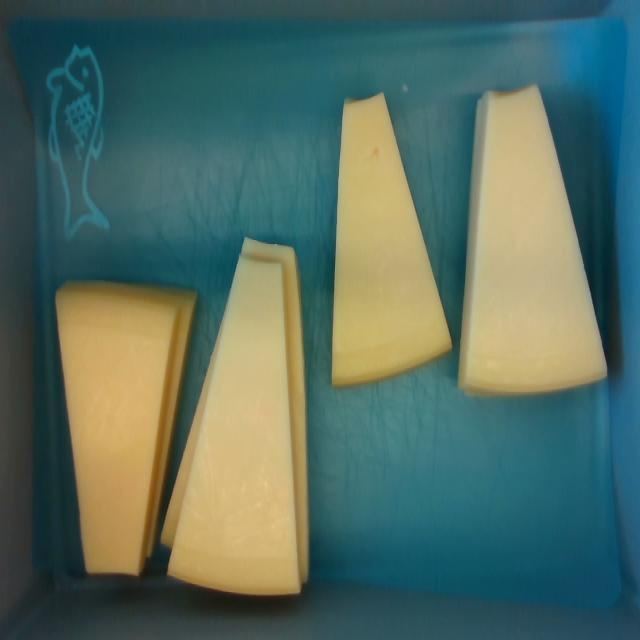cheese: (168, 257, 302, 595), (465, 87, 605, 393), (56, 290, 178, 575), (333, 93, 451, 385)
